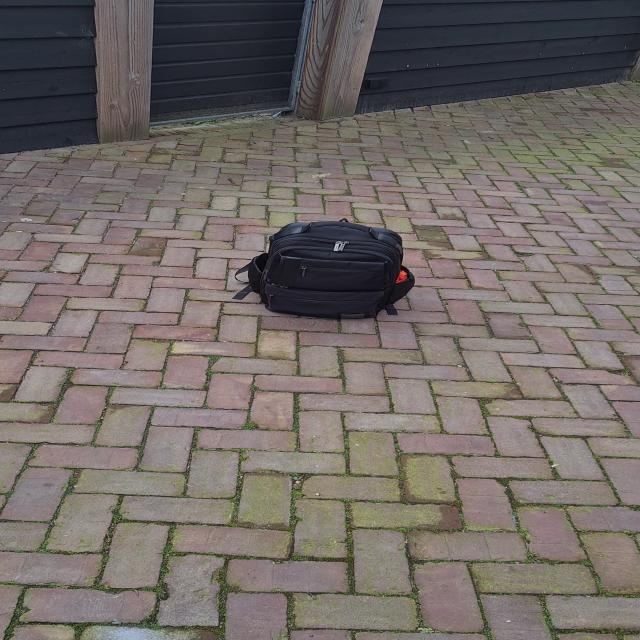backpack: (236, 220, 422, 320)
